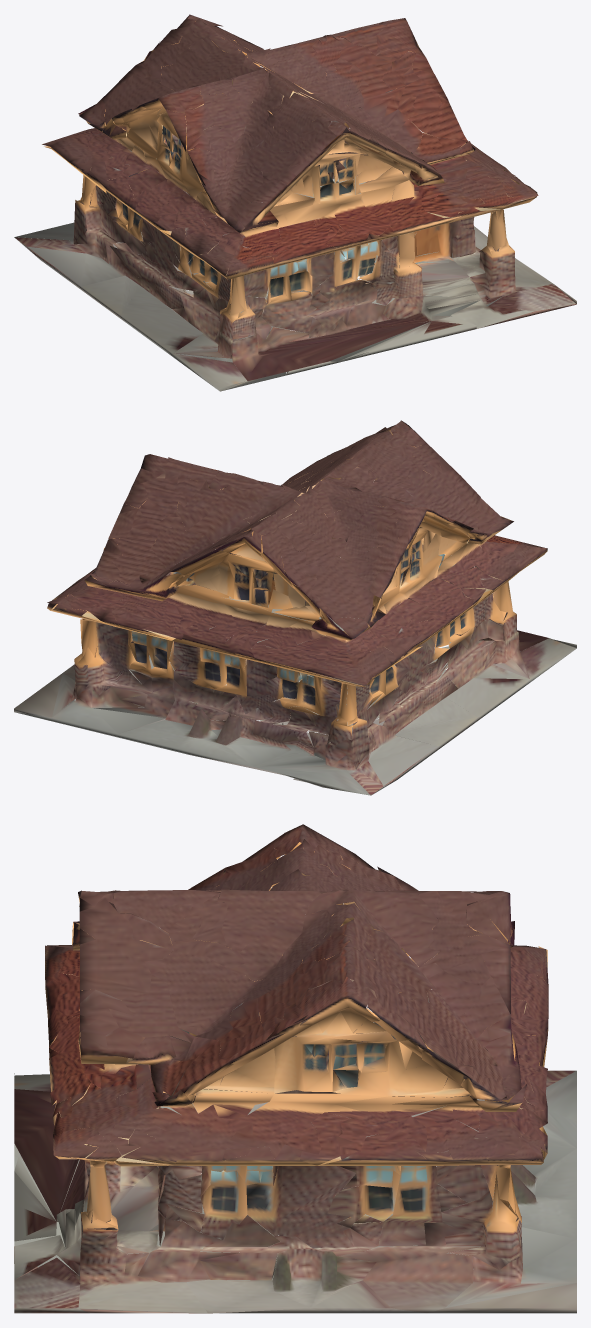
Rendered from World0903d331e8.glb.
3 views of the same model, one above another, from view 1: azimuth 30°, elevation 25°; view 2: azimuth 150°, elevation 25°; view 3: azimuth 270°, elevation 25° (orthographic). The views are drawn at different scales.
Parts seen in each view (by area): view 1: World0903d331e8; view 2: World0903d331e8; view 3: World0903d331e8.
Boxes of the visible parts, bbox=[...] form: World0903d331e8: bbox=[14, 14, 576, 391]; World0903d331e8: bbox=[14, 420, 576, 795]; World0903d331e8: bbox=[14, 824, 576, 1313].
Bounding box in the file's own units: 7.02 × 4.03 × 7.
1 material, 1 textured.
